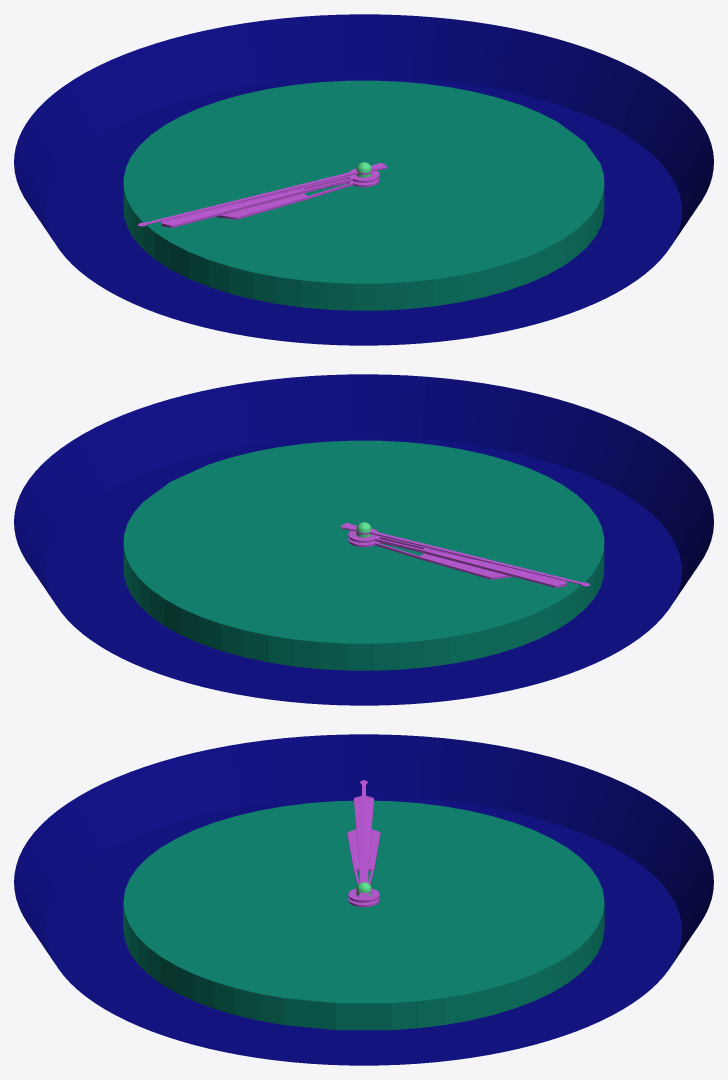
The model's file is watch_basic_001.obj.
3 views of the same model, one above another, from view 1: azimuth 30°, elevation 25°; view 2: azimuth 150°, elevation 25°; view 3: azimuth 270°, elevation 25° (orthographic).
Parts seen in each view (by area): view 1: Lower_Plane, Upper_plane, Cylinder002, Cylinder001, Second_Hand; view 2: Lower_Plane, Upper_plane, Cylinder002, Cylinder001, Second_Hand; view 3: Lower_Plane, Upper_plane, Cylinder002, Cylinder001, Second_Hand.
Boxes of the visible parts, x1=… form: Lower_Plane: x1=14, y1=14, x2=713, y2=345; Upper_plane: x1=123, y1=80, x2=604, y2=310; Cylinder002: x1=161, y1=168, x2=379, y2=227; Cylinder001: x1=215, y1=178, x2=379, y2=219; Second_Hand: x1=137, y1=162, x2=387, y2=226; Lower_Plane: x1=14, y1=374, x2=713, y2=705; Upper_plane: x1=123, y1=440, x2=604, y2=670; Cylinder002: x1=348, y1=528, x2=566, y2=587; Cylinder001: x1=348, y1=538, x2=512, y2=579; Second_Hand: x1=340, y1=522, x2=590, y2=586; Lower_Plane: x1=14, y1=734, x2=713, y2=1065; Upper_plane: x1=123, y1=800, x2=604, y2=1030; Cylinder002: x1=348, y1=795, x2=379, y2=902; Cylinder001: x1=347, y1=829, x2=380, y2=907; Second_Hand: x1=355, y1=780, x2=372, y2=901.
Size of the model in its own units: 87.3 by 6.75 by 87.3.
